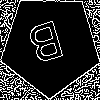B: (25, 20, 69, 74)
